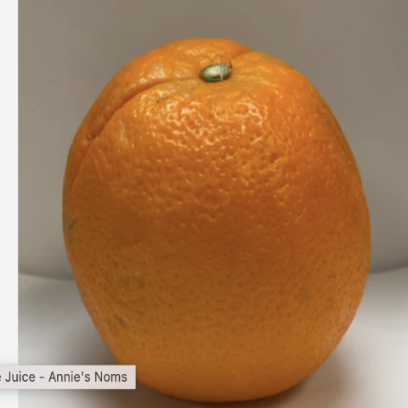orange: (37, 15, 387, 403)
